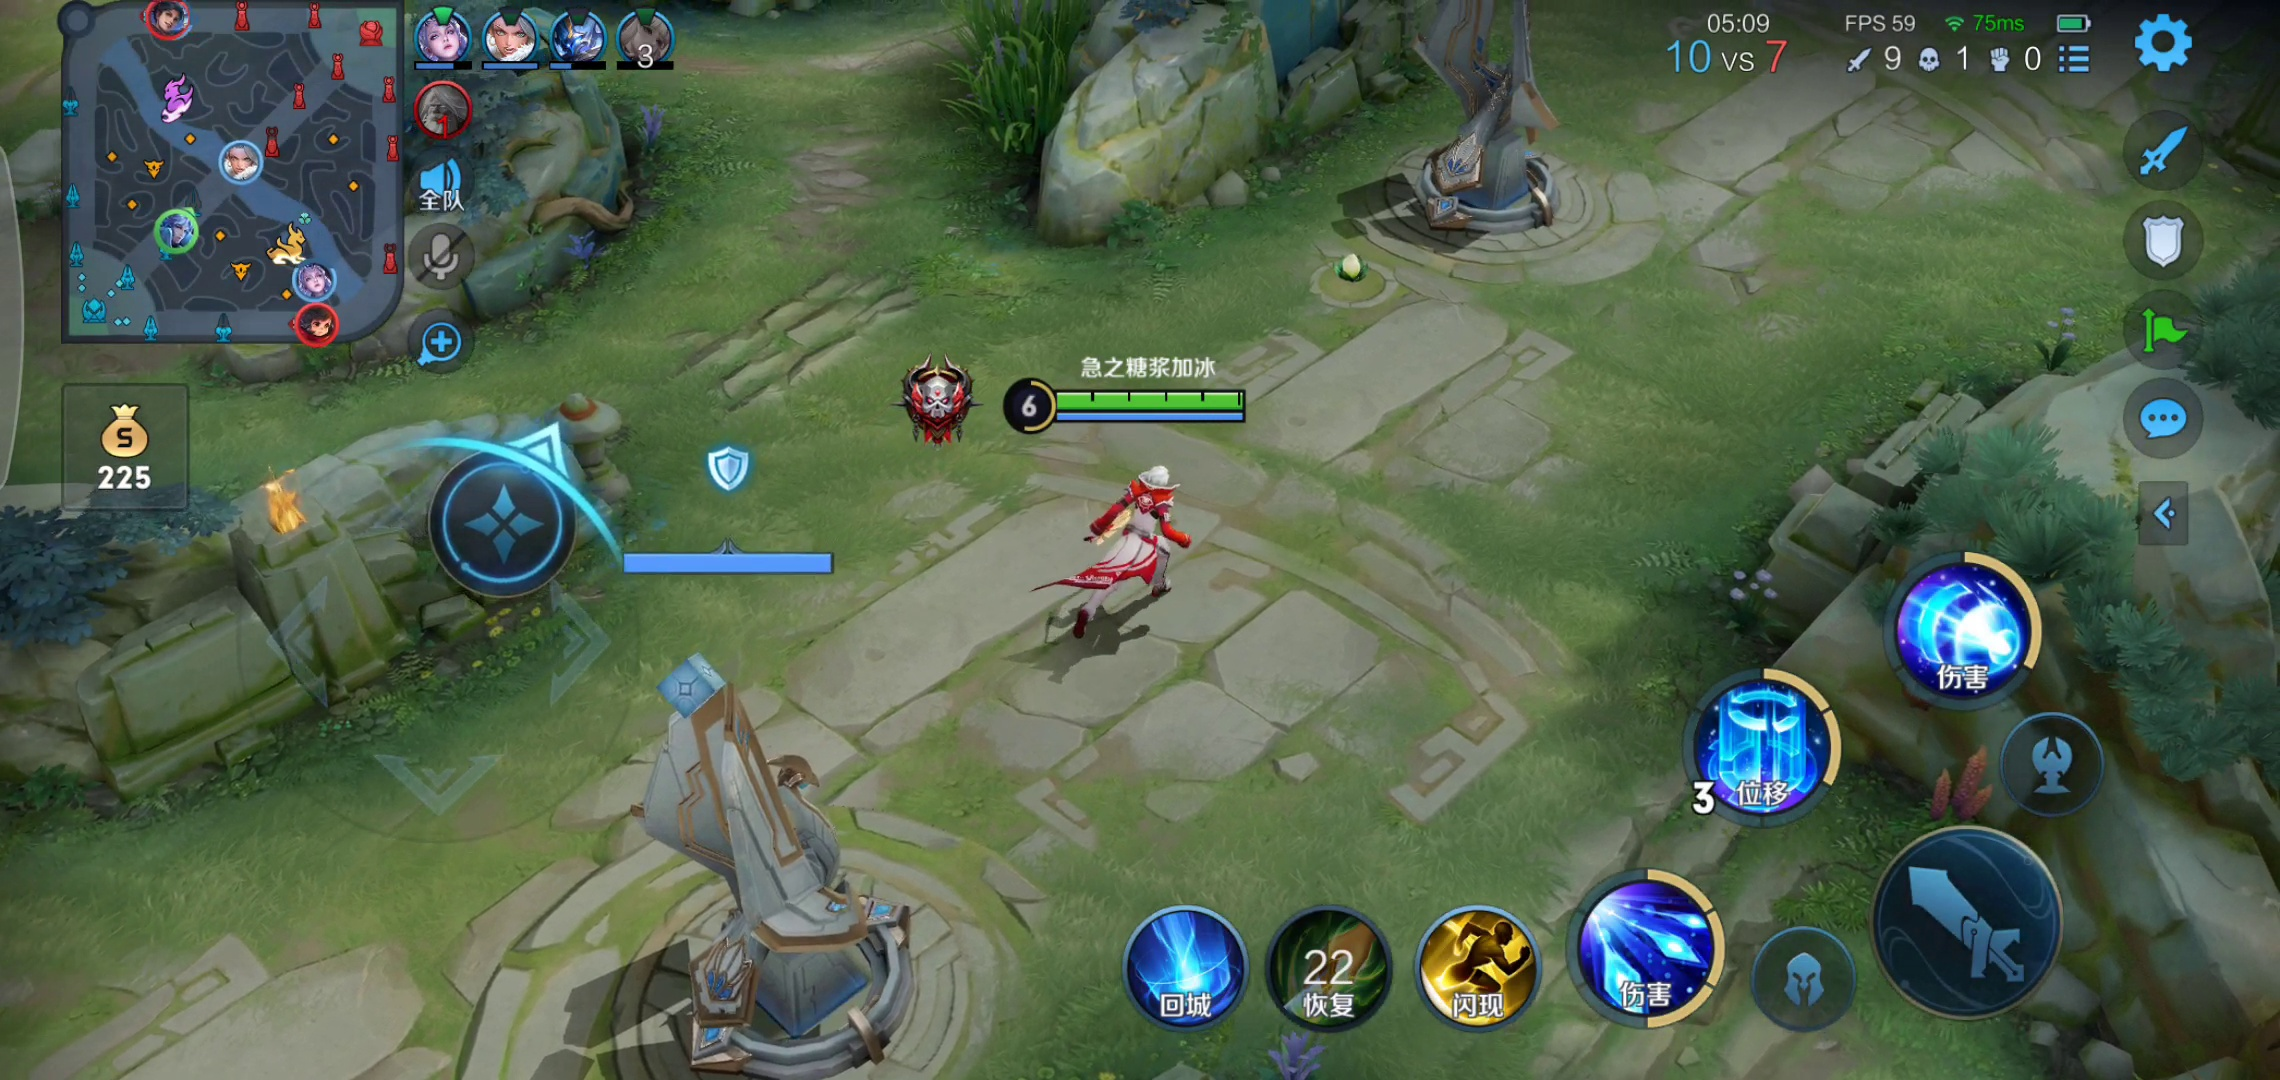grass: (920, 1, 1091, 147)
hero: (1028, 443, 1229, 640)
tower: (585, 658, 944, 1064), (1393, 1, 1589, 249)
